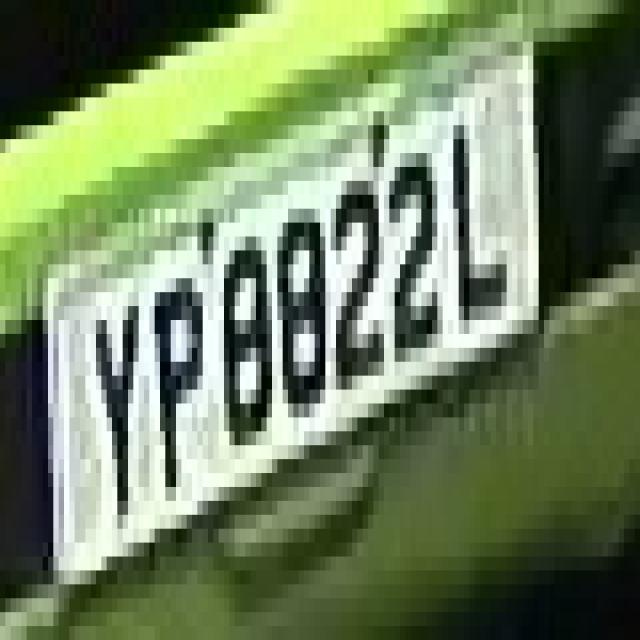2: (373, 111, 448, 376), (326, 153, 390, 390)
8: (267, 167, 341, 473), (202, 209, 266, 501)
L: (448, 83, 501, 334)
P: (144, 236, 203, 528)
Y: (74, 278, 154, 557)
